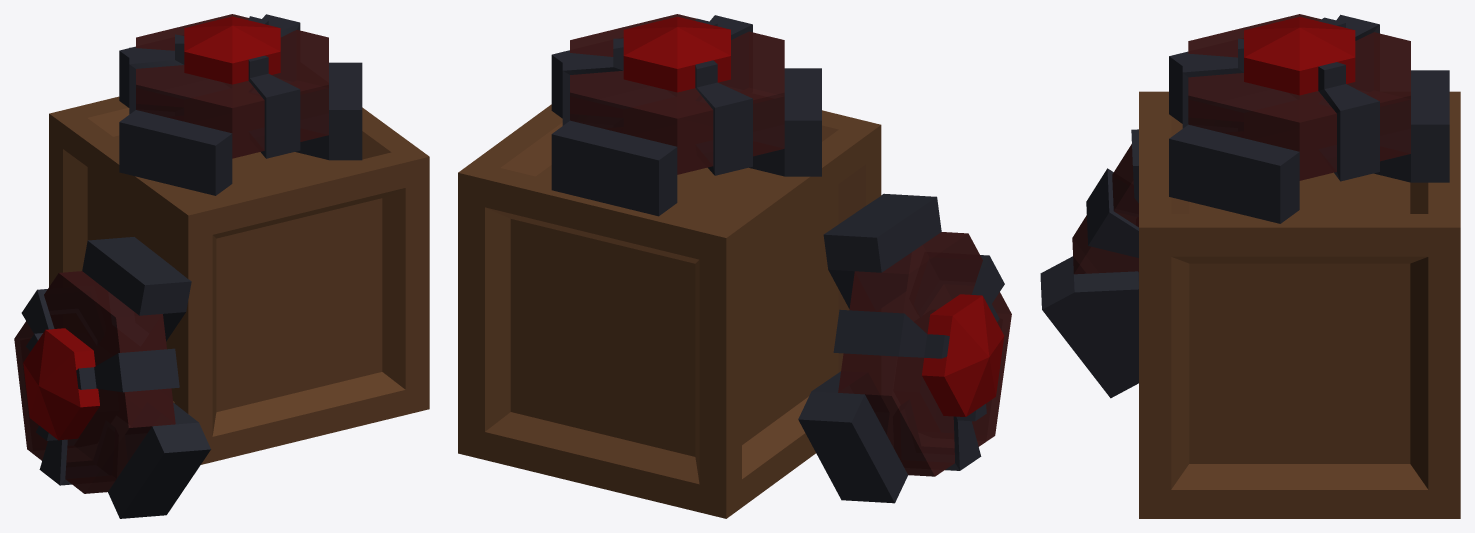
The model's file is minePickUp.fbx.
The picture shows the model from 3 angles, left to right: view 1: azimuth 30°, elevation 25°; view 2: azimuth 150°, elevation 25°; view 3: azimuth 270°, elevation 25°; orthographic projection. The views are drawn at different scales.
Parts seen in each view (by area): view 1: minePickUp; view 2: minePickUp; view 3: minePickUp.
Boxes of the visible parts, <box> form: minePickUp: <box>14,14,429,518</box>; minePickUp: <box>458,14,1011,518</box>; minePickUp: <box>1040,14,1460,518</box>.
Bounding box in the file's own units: 7.56 × 7.79 × 6.53.
